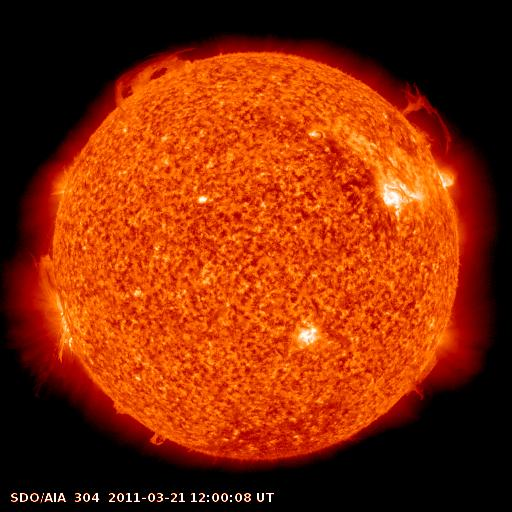prominence: (105, 40, 210, 110), (389, 74, 461, 165), (15, 246, 71, 301), (393, 365, 443, 410), (134, 422, 183, 454), (103, 389, 134, 425)
